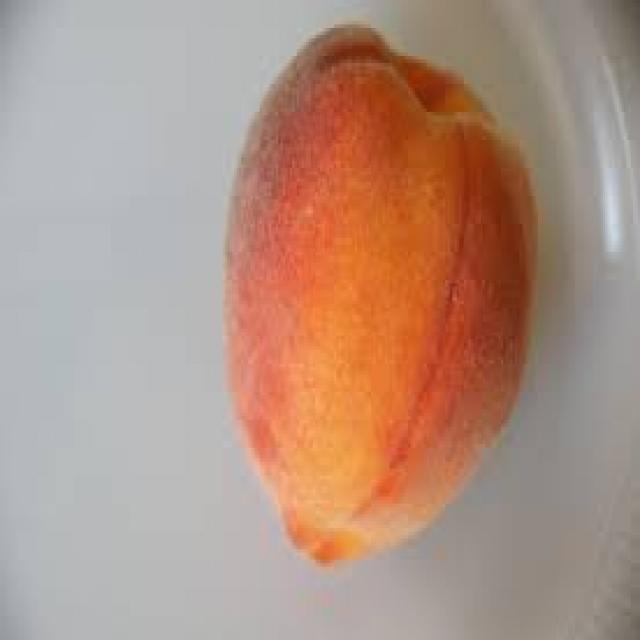peach: (218, 18, 543, 566)
